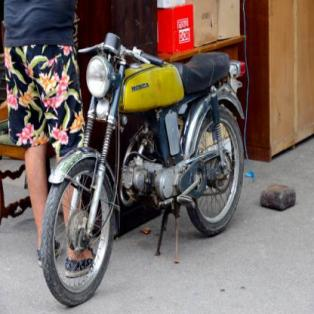Motocicleta: (35, 41, 247, 305)
